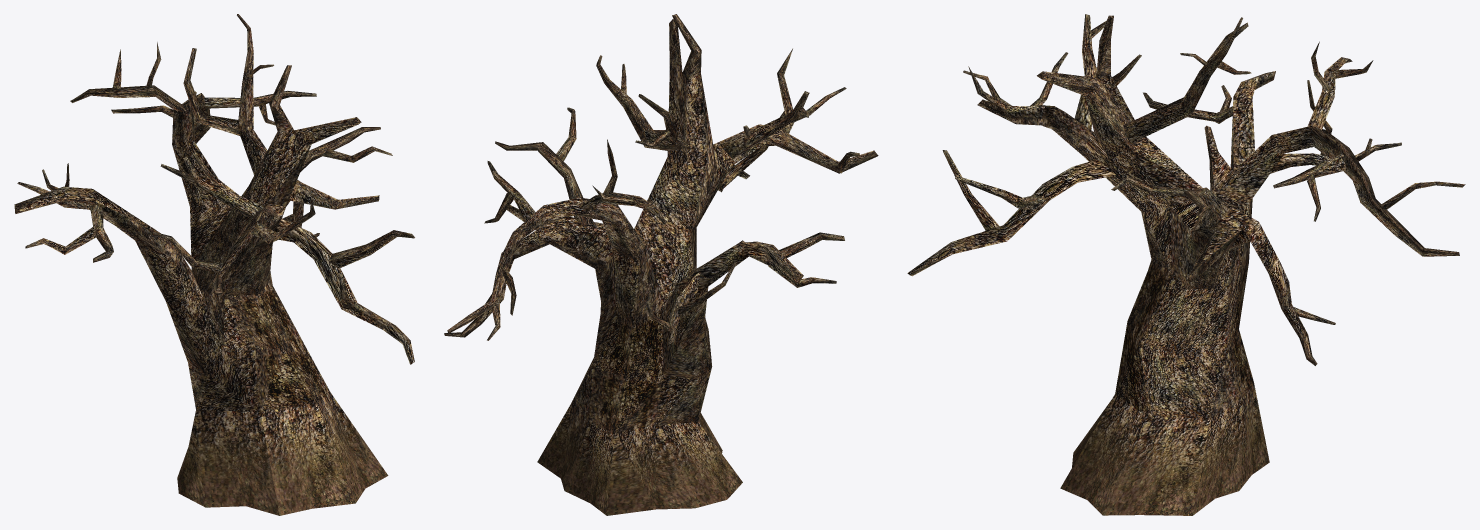
Rendered from hr_tree10.glb.
3 views of the same model, side by side, from view 1: azimuth 30°, elevation 25°; view 2: azimuth 150°, elevation 25°; view 3: azimuth 270°, elevation 25° (orthographic). The views are drawn at different scales.
Parts seen in each view (by area): view 1: hr_tree10-col; view 2: hr_tree10-col; view 3: hr_tree10-col.
Part boxes in pixels (x1,y1,x2,y2): hr_tree10-col: (14,14,414,515); hr_tree10-col: (444,14,878,515); hr_tree10-col: (907,14,1465,515).
Size of the model in its own units: 12.99 by 15.65 by 17.4.
Materials: 3 (3 with a texture image).
